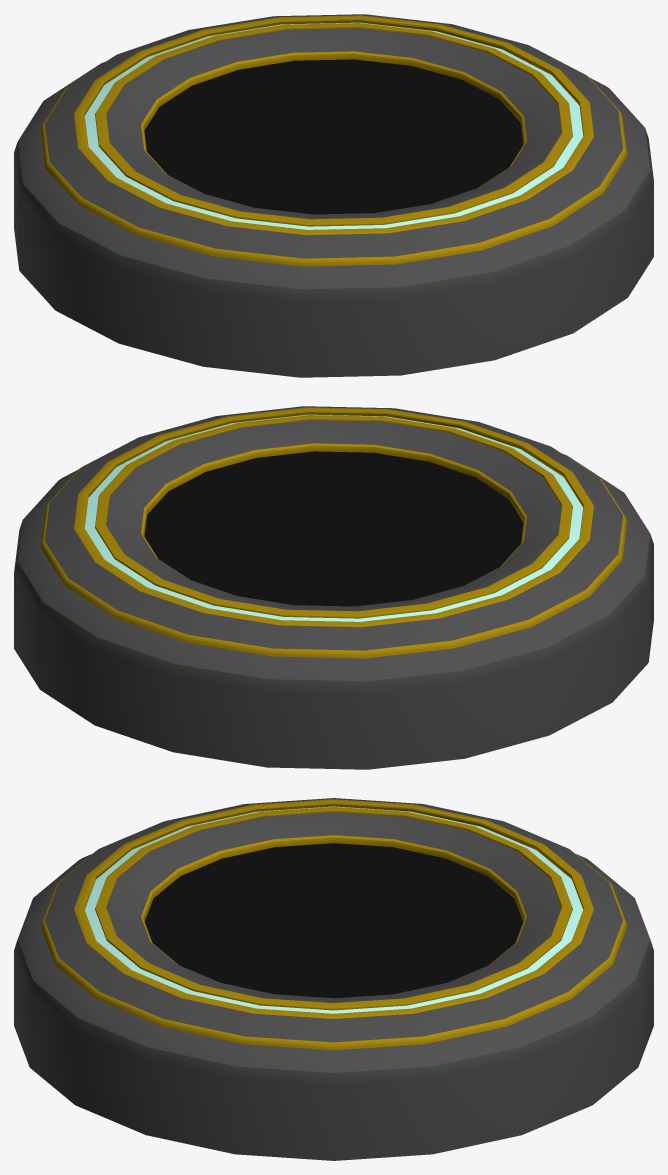
The model's file is PortalPlatformFinalModel.fbx.
The picture shows the model from 3 angles, top to bottom: view 1: azimuth 30°, elevation 25°; view 2: azimuth 150°, elevation 25°; view 3: azimuth 270°, elevation 25°; orthographic projection.
Visible parts, largest first — view 1: PortalPlatformFinalModel; view 2: PortalPlatformFinalModel; view 3: PortalPlatformFinalModel.
Part boxes in pixels (left/top/right/bottom): PortalPlatformFinalModel: left=14, top=14, right=653, bottom=377; PortalPlatformFinalModel: left=14, top=406, right=653, bottom=769; PortalPlatformFinalModel: left=14, top=798, right=653, bottom=1160.
Bounding box in the file's own units: 400 × 82.24 × 400.
